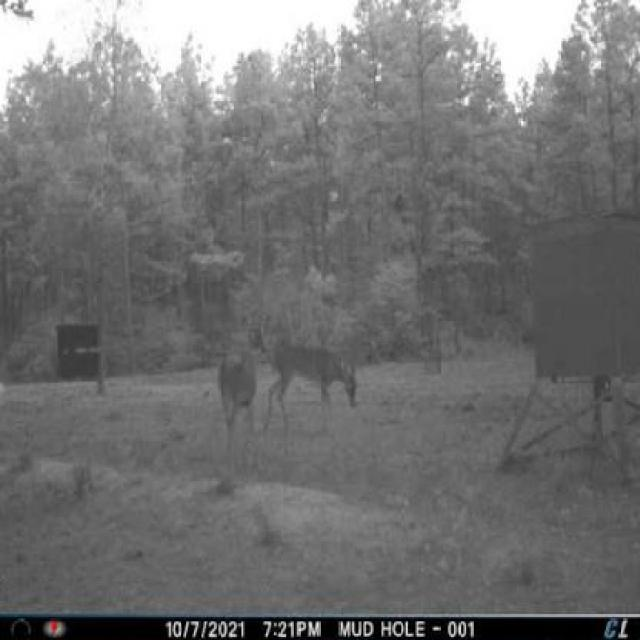Deer: (209, 312, 274, 482), (266, 330, 366, 438)
